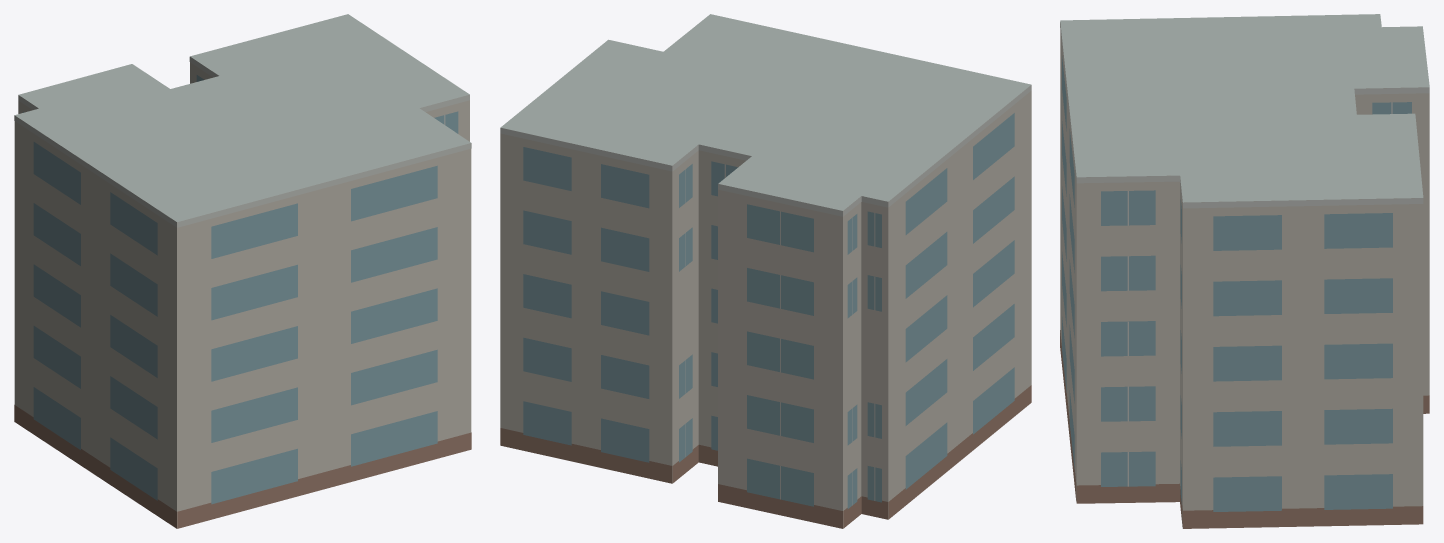
The model's file is survey-upis-32556222.glb.
3 views of the same model, side by side, from view 1: azimuth 30°, elevation 25°; view 2: azimuth 150°, elevation 25°; view 3: azimuth 270°, elevation 25° (orthographic). The views are drawn at different scales.
Visible parts, largest first — view 1: survey-upis-32556222.tmp; view 2: survey-upis-32556222.tmp; view 3: survey-upis-32556222.tmp.
Part boxes in pixels (x1,y1,x2,y2): survey-upis-32556222.tmp: [14, 14, 471, 528]; survey-upis-32556222.tmp: [500, 14, 1031, 528]; survey-upis-32556222.tmp: [1060, 14, 1429, 528].
Size of the model in its own units: 16.48 by 13.3 by 13.66.
